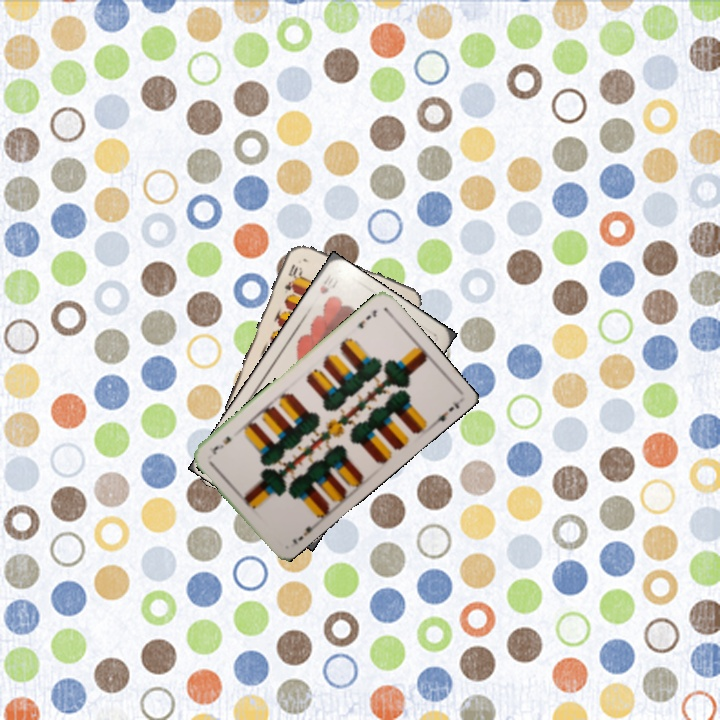E10: (280, 260, 304, 293)
E7: (288, 519, 320, 547), (353, 305, 380, 331)
H10: (316, 270, 334, 297)
